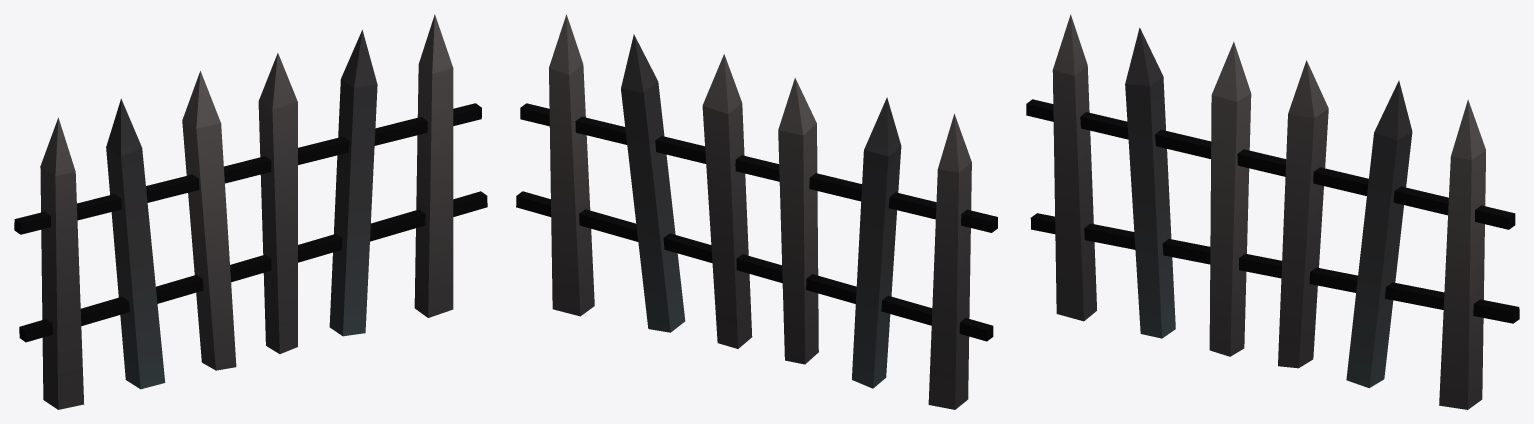
The model's file is Fence2.obj.
3 renders of one model, left to right at view 1: azimuth 30°, elevation 25°; view 2: azimuth 150°, elevation 25°; view 3: azimuth 330°, elevation 25°, orthographic. The views are drawn at different scales.
Parts seen in each view (by area): view 1: {mesh}Fence2_Cube.037; view 2: {mesh}Fence2_Cube.037; view 3: {mesh}Fence2_Cube.037.
Boxes of the visible parts, box(x1,y1,x2,y2) form: {mesh}Fence2_Cube.037: box(14, 14, 487, 409); {mesh}Fence2_Cube.037: box(516, 14, 997, 409); {mesh}Fence2_Cube.037: box(1026, 14, 1519, 409).
Size of the model in its own units: 82.13 by 49.44 by 7.55.
